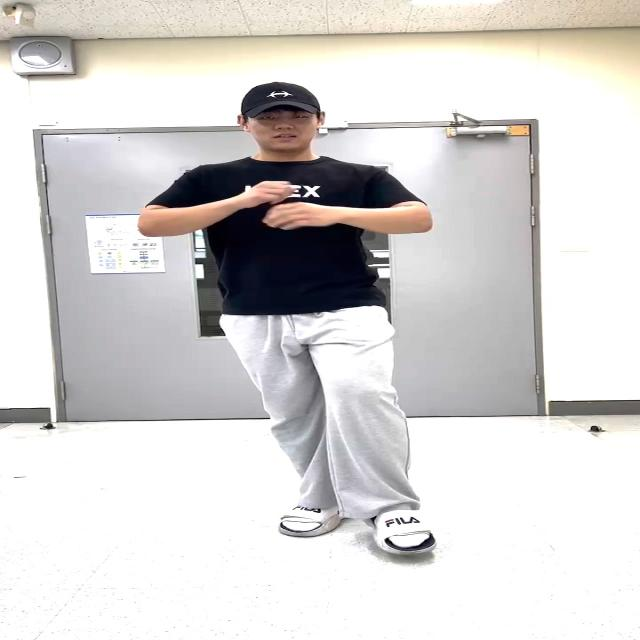leg: (318, 321, 417, 548)
